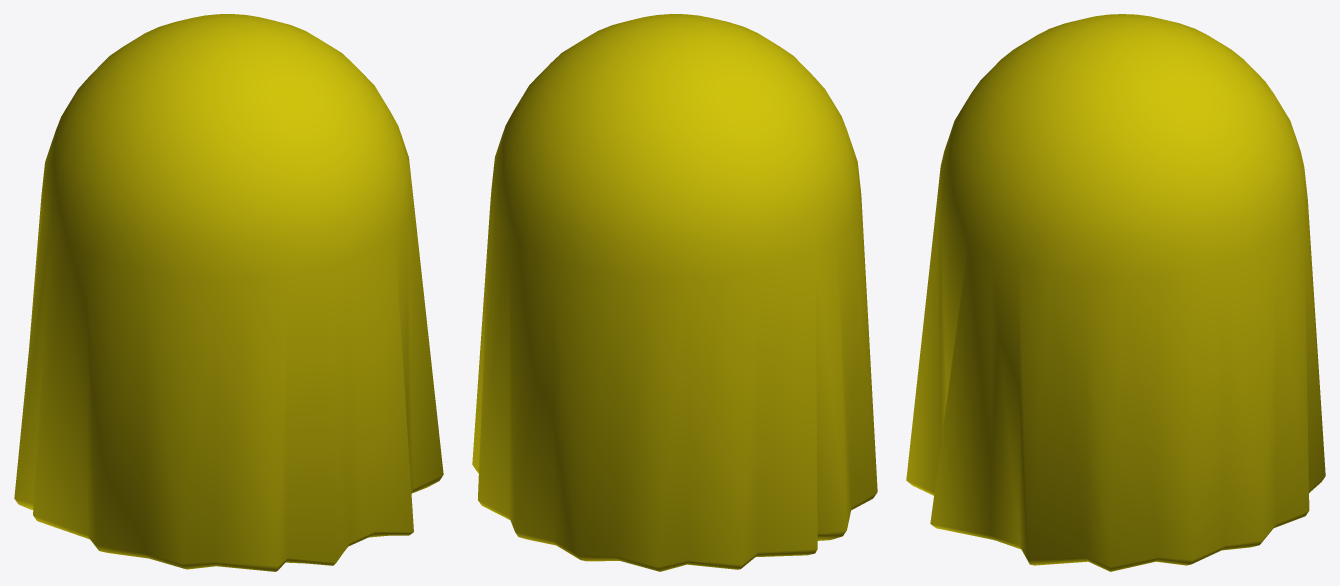
File: Ghost1.obj
3 renders of one model, left to right at view 1: azimuth 30°, elevation 25°; view 2: azimuth 150°, elevation 25°; view 3: azimuth 270°, elevation 25°, orthographic.
Visible parts, largest first — view 1: Sphere_Sphere.001; view 2: Sphere_Sphere.001; view 3: Sphere_Sphere.001.
Boxes of the visible parts, box(x1,y1,x2,y2) form: Sphere_Sphere.001: box(14, 14, 443, 571); Sphere_Sphere.001: box(472, 14, 877, 571); Sphere_Sphere.001: box(906, 14, 1325, 571).
Size of the model in its own units: 2.27 by 2.84 by 2.26.
